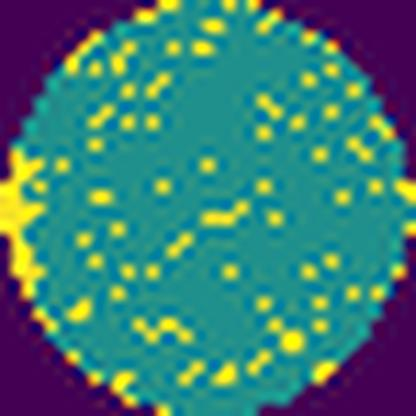Edge-Loc: (0, 141, 51, 303)
